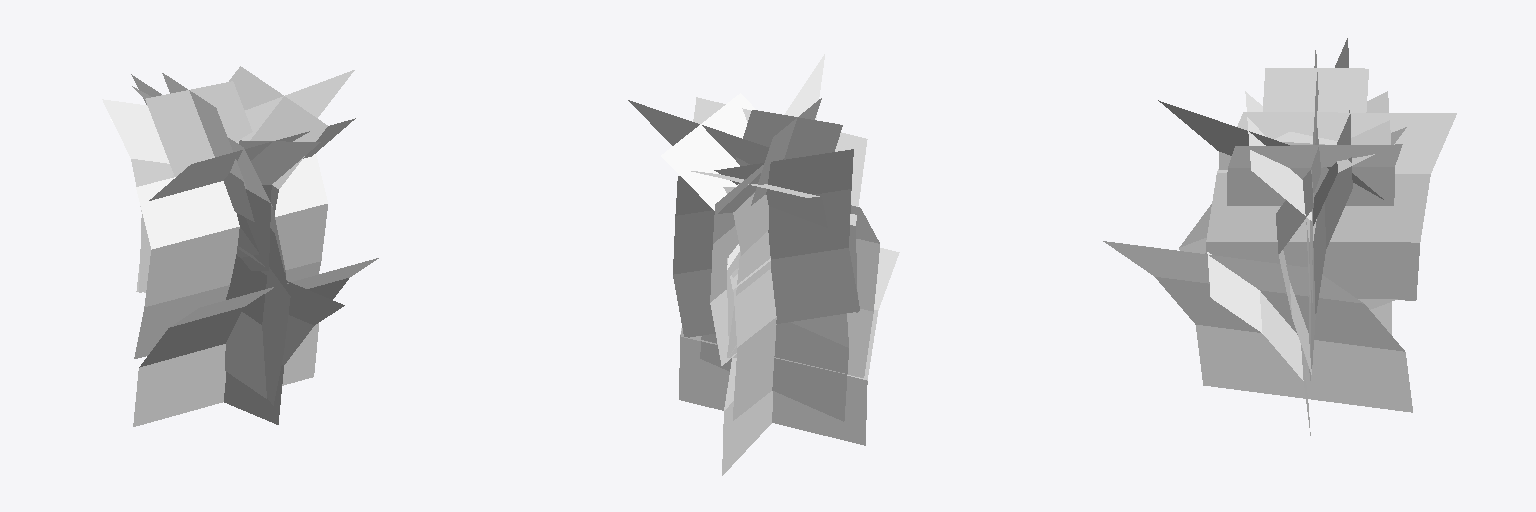
3 views of the same model, side by side, from view 1: azimuth 30°, elevation 25°; view 2: azimuth 150°, elevation 25°; view 3: azimuth 270°, elevation 25° (orthographic).
Parts seen in each view (by area): view 1: trunk; view 2: trunk; view 3: trunk.
Boxes of the visible parts, box(x1,y1,x2,y2) form: trunk: box(102, 66, 378, 426); trunk: box(628, 54, 899, 475); trunk: box(1103, 38, 1456, 435).
Size of the model in its own units: 12.85 by 17.07 by 16.45.